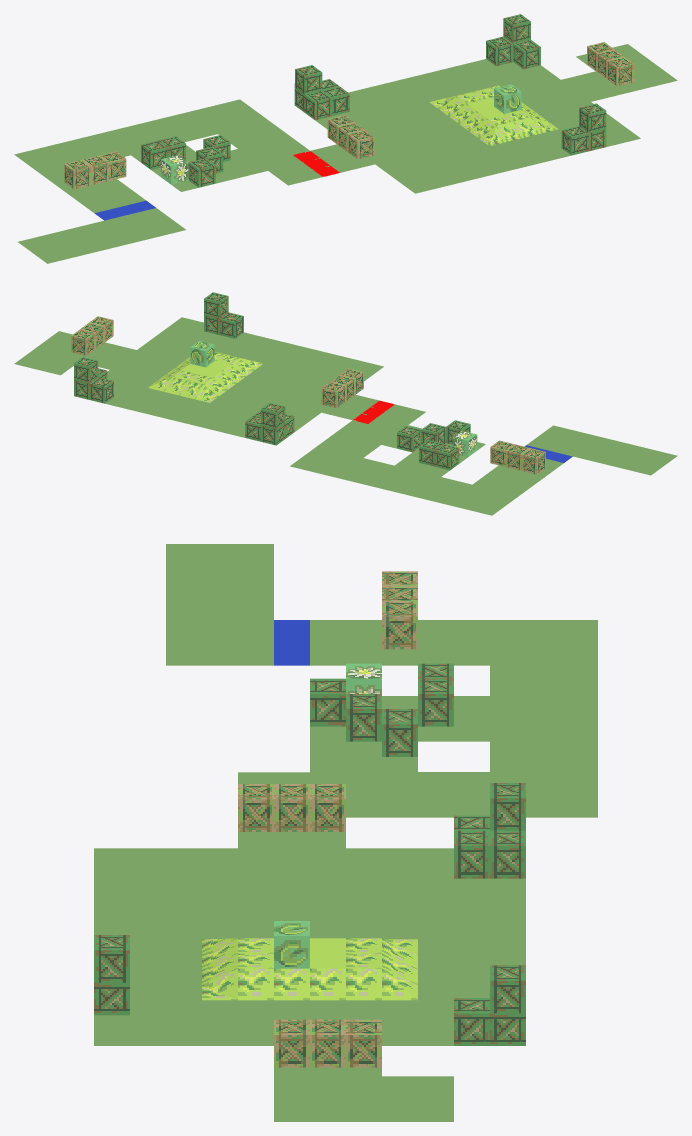
Rendered from LevelOneLayout.gltf.
The picture shows the model from 3 angles, top to bottom: view 1: azimuth 30°, elevation 25°; view 2: azimuth 150°, elevation 25°; view 3: azimuth 270°, elevation 25°; orthographic projection. The views are drawn at different scales.
Size of the model in its own units: 38 by 2 by 14.
Materials: 1 (1 with a texture image).
